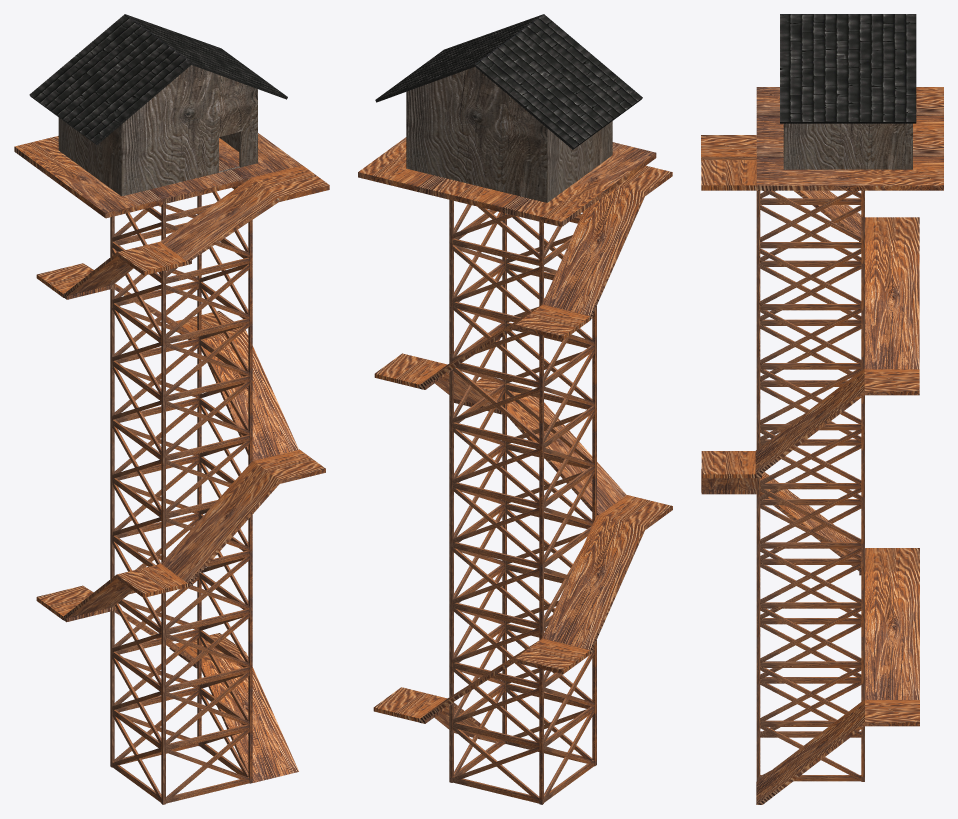
The model's file is Base Vigia.fbx.
3 renders of one model, left to right at view 1: azimuth 30°, elevation 25°; view 2: azimuth 150°, elevation 25°; view 3: azimuth 270°, elevation 25°, orthographic. The views are drawn at different scales.
Parts seen in each view (by area): view 1: Box073; view 2: Box073; view 3: Box073.
Part boxes in pixels (x1=…): Box073: x1=14, y1=14, x2=329, y2=804; Box073: x1=358, y1=14, x2=672, y2=804; Box073: x1=701, y1=14, x2=943, y2=804.
Size of the model in its own units: 1200 by 4219 by 1249.
